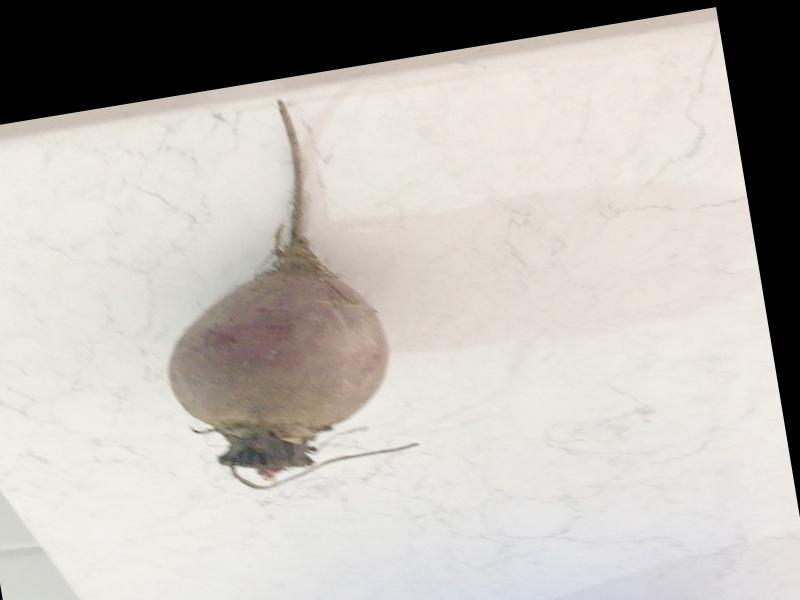Beet: (129, 86, 424, 503)
